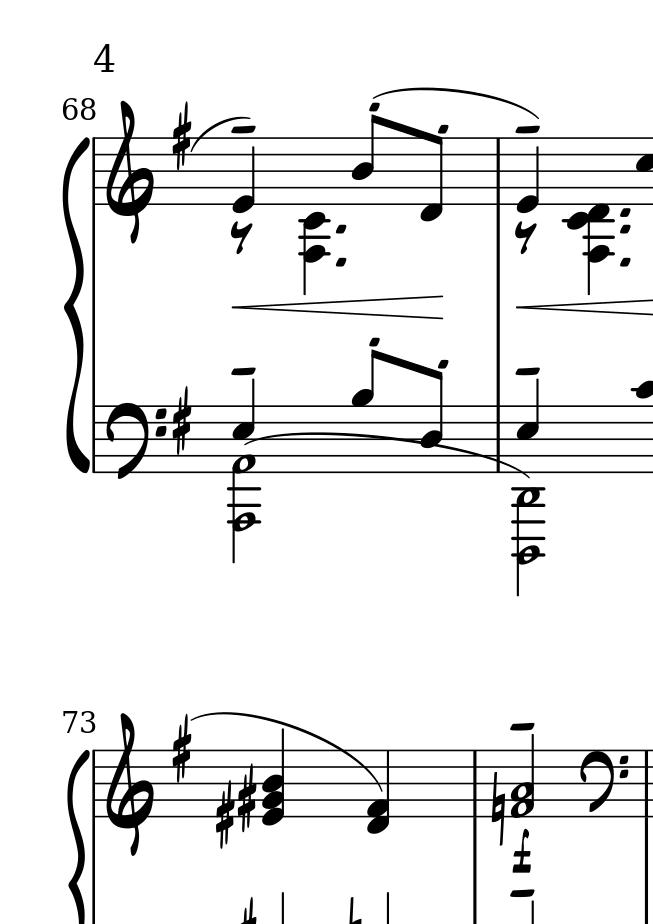2_1_3: (510, 735, 536, 821)
3: (78, 709, 97, 735)
4: (93, 41, 116, 73)
4_-1_1: (365, 749, 392, 835)
4_0: (231, 136, 259, 215), (515, 135, 541, 213)
4_5: (515, 378, 539, 472)
4_th: (262, 727, 288, 827)
6: (62, 96, 79, 123)
8: (79, 96, 97, 122)
8_-1: (417, 130, 446, 225)
8_4: (349, 114, 383, 207), (418, 365, 446, 476)
8_9: (348, 348, 384, 476)
Brace: (63, 135, 91, 477)
Crescendo_hairpin: (232, 293, 444, 323), (514, 298, 653, 318)
Fclef: (105, 400, 166, 483), (578, 748, 630, 819)
Gclef: (103, 99, 157, 244), (103, 711, 155, 857)
Natural: (490, 767, 506, 842)
Rests4: (227, 218, 256, 257), (513, 219, 539, 256)
Sharp: (171, 100, 194, 172), (170, 386, 193, 457), (171, 713, 193, 784), (237, 764, 258, 832), (214, 781, 235, 849)
Single_barline: (491, 138, 507, 205), (491, 407, 507, 472), (468, 751, 483, 816), (88, 406, 101, 471)
Slur: (190, 709, 382, 795), (245, 430, 532, 480), (373, 87, 540, 118), (188, 113, 251, 150)
dot: (332, 221, 348, 237), (617, 254, 632, 269), (332, 255, 346, 270), (618, 205, 632, 220), (617, 222, 632, 236)
f: (511, 829, 532, 875)
